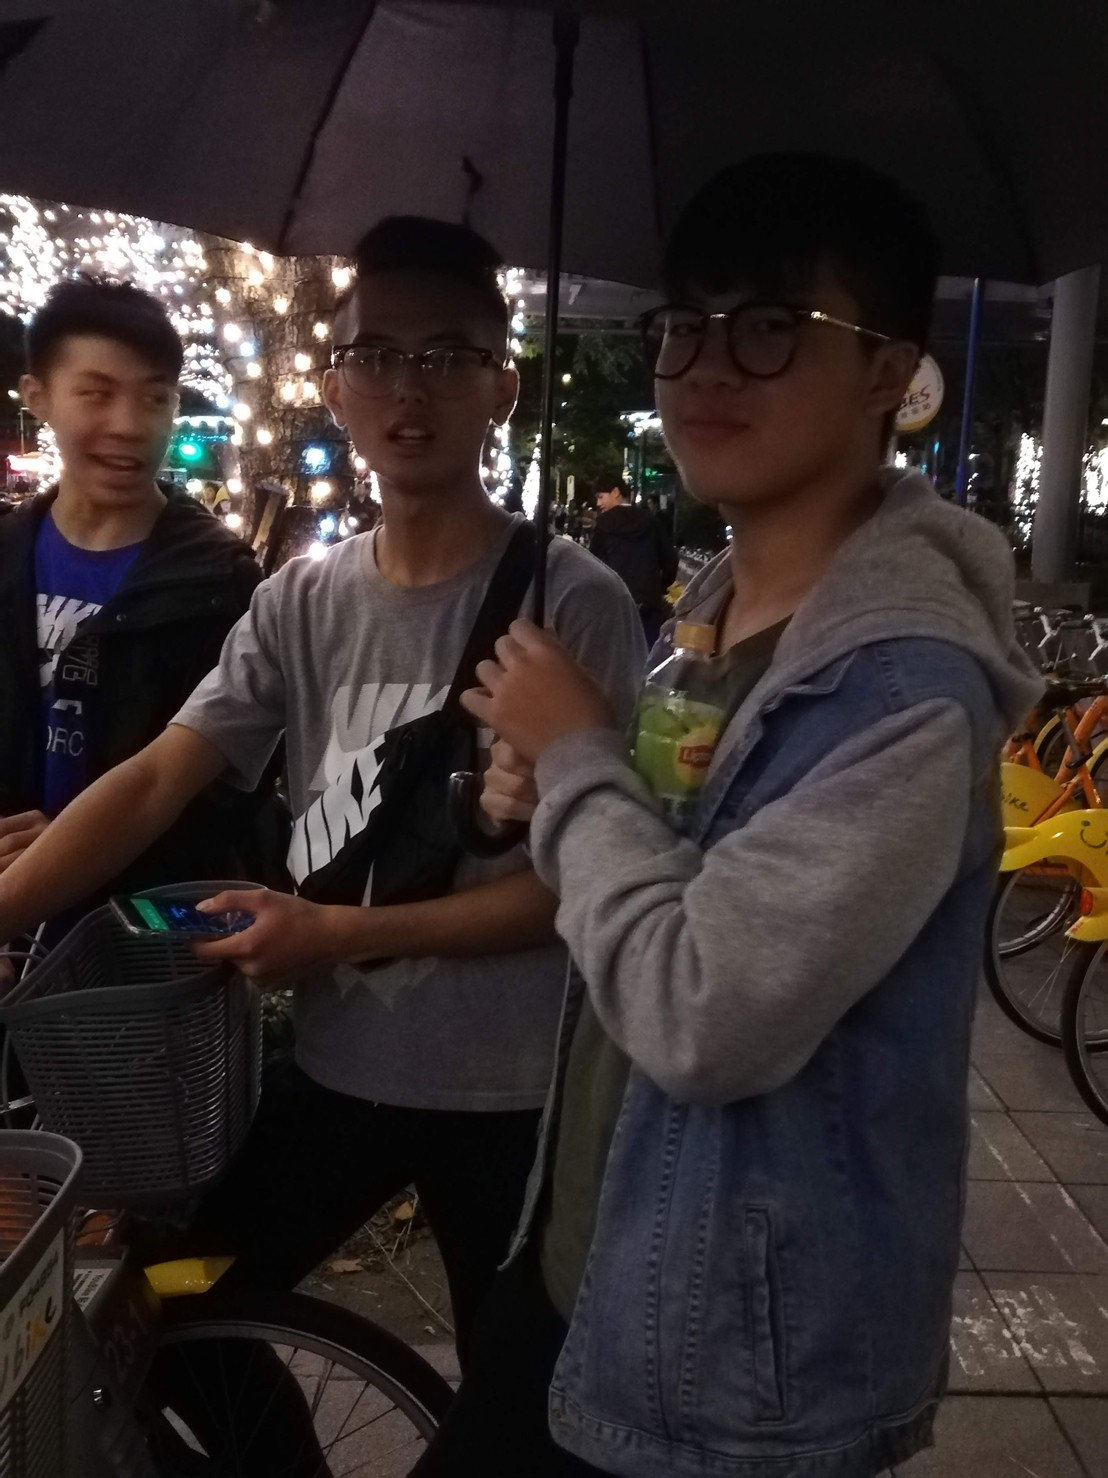people: (602, 183, 919, 1478), (259, 214, 555, 1440), (5, 290, 219, 1007)
